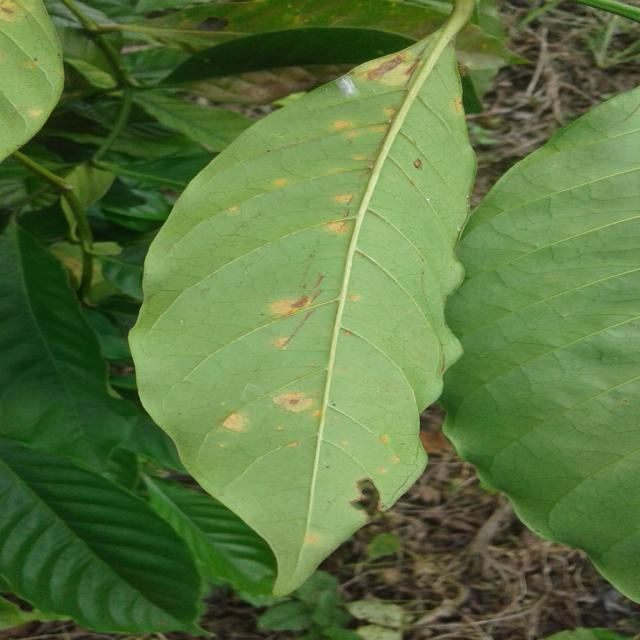Enfermedad-Roya: (127, 0, 477, 600)
